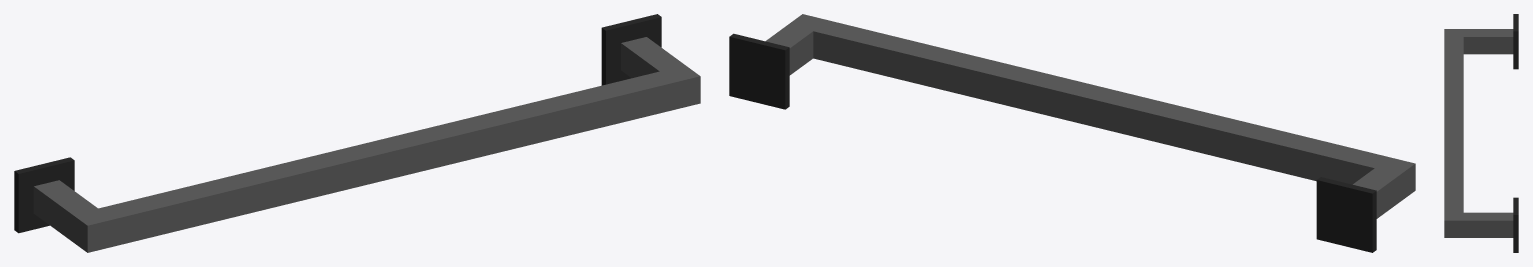
The model's file is Itr_Towelframe_01.FBX.
3 renders of one model, left to right at view 1: azimuth 30°, elevation 25°; view 2: azimuth 150°, elevation 25°; view 3: azimuth 270°, elevation 25°, orthographic. The views are drawn at different scales.
Visible parts, largest first — view 1: Itr_Towelframe_01; view 2: Itr_Towelframe_01; view 3: Itr_Towelframe_01.
Boxes of the visible parts, <box> form: Itr_Towelframe_01: <box>14,14,700,252</box>; Itr_Towelframe_01: <box>729,14,1415,252</box>; Itr_Towelframe_01: <box>1444,14,1518,252</box>.
Size of the model in its own units: 48.66 by 4.29 by 7.6.
